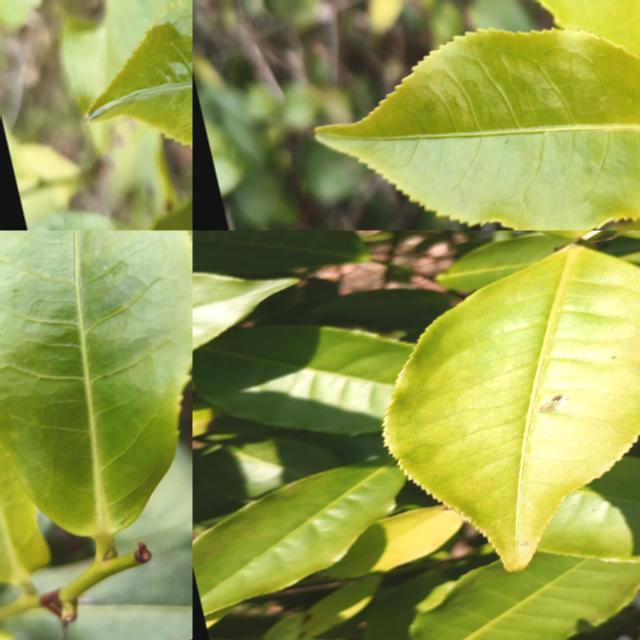Leaf: (384, 245, 640, 569), (316, 28, 640, 230), (0, 230, 192, 556), (192, 457, 405, 614), (192, 325, 411, 432), (411, 550, 640, 640), (67, 533, 192, 640), (537, 456, 640, 560), (329, 505, 462, 577), (199, 435, 338, 498), (192, 271, 296, 349), (192, 230, 367, 276), (434, 233, 568, 290), (310, 287, 451, 341), (0, 442, 49, 586), (363, 569, 454, 640), (299, 572, 381, 638), (33, 559, 89, 592), (4, 608, 61, 640)
